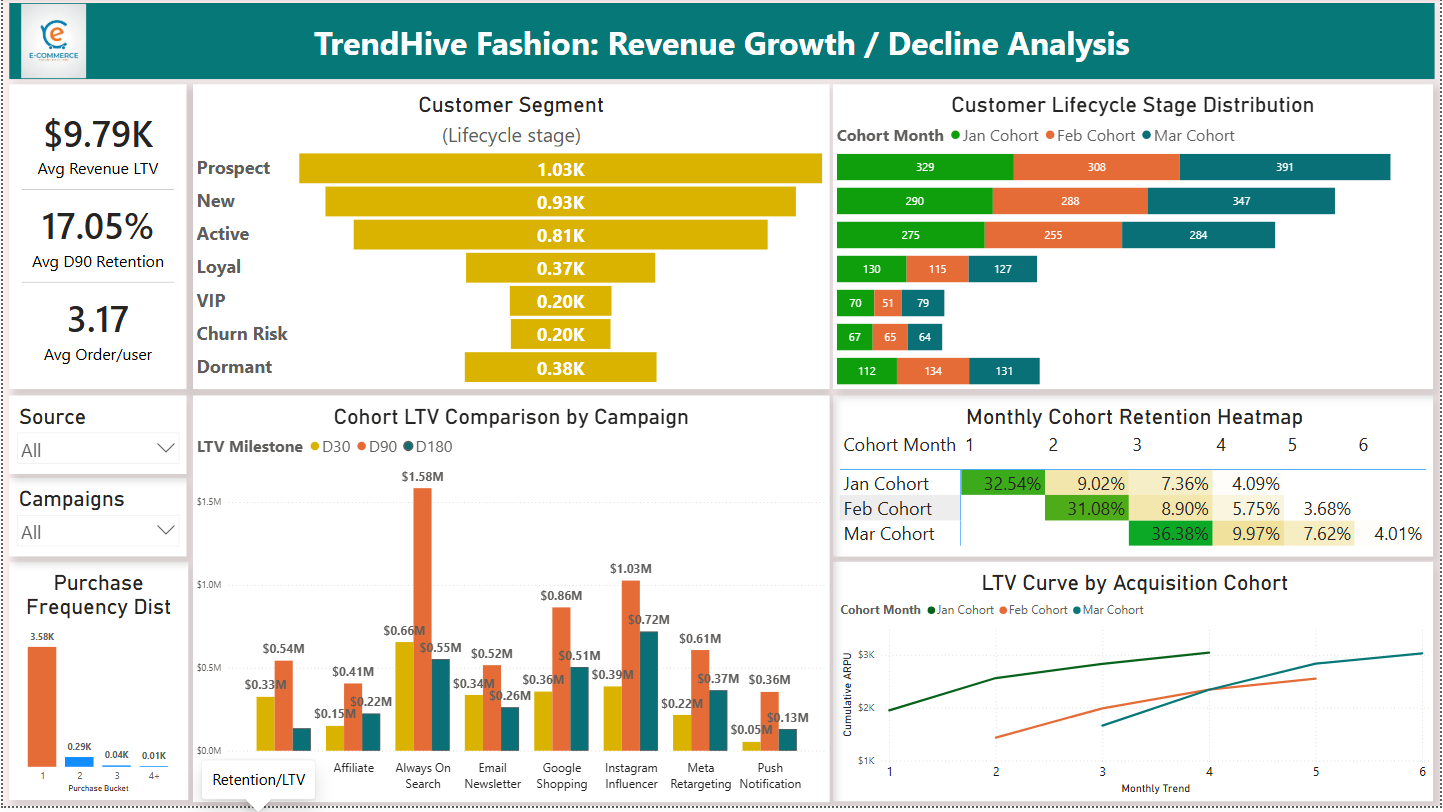

The dashboard page shown, as its layout file describes it:
{"tool":"powerbi","page":{"name":"Retention/LTV","canvas":[1920,1080],"ordinal":1},"visuals":[{"type":"textbox","box":[9,7.2,1903.8,101.3],"z":0},{"type":"image","box":[23.5,7.2,88.7,101.3],"z":1000},{"type":"cardVisual","fields":{"Data":["Sheet1.Avg Revenue LTV","Sheet1.Avg D90 Retention","Sheet1.Avg Order/user"]},"box":[9,115.8,237.1,407.2],"z":2000},{"type":"pivotTable","title":"Monthly Cohort Retention Heatmap","fields":{"Values":["Sheet1.Grid Retention %"],"Columns":["Sheet1.month"],"Rows":["Sheet1.Cohort Month"]},"box":[1109.3,530.2,801.7,215.3],"z":3000},{"type":"lineChart","title":"LTV Curve by Acquisition Cohort","fields":{"Category":["Sheet1.month"],"Y":["Sheet1.Cumulative ARPU"],"Series":["Sheet1.Cohort Month"]},"box":[1109.3,752.8,801.7,320.3],"z":4000},{"type":"funnel","title":"Customer Segment","fields":{"Category":["Sheet1.customer_segment"],"Y":["Count(Sheet1.customer_id)"]},"box":[253.4,115.8,850.5,407.2],"z":5000},{"type":"clusteredColumnChart","title":"Purchase Frequency Dist","fields":{"Category":["UserPurchaseSummary.Purchase Bucket"],"Y":["Count(UserPurchaseSummary.customer_id)"]},"box":[9,752.8,238.9,318.5],"z":6000},{"type":"slicer","fields":{"Values":["UserPurchaseSummary.campaign"]},"box":[9,640.6,237.1,105],"z":7000},{"type":"slicer","fields":{"Values":["UserPurchaseSummary.source"]},"box":[9,530.2,237.1,105],"z":8000},{"type":"clusteredColumnChart","title":"Cohort LTV Comparison by Campaign","fields":{"Category":["Sheet1.campaign"],"Y":["Sum(Sheet1.net_revenue)"],"Series":["Sheet1.LTV Milestone"]},"box":[253.4,530.2,850.5,542.9],"z":9000},{"type":"barChart","title":"Customer Lifecycle Stage Distribution","fields":{"Category":["Sheet1.customer_segment"],"Y":["Count(Sheet1.customer_id)"],"Series":["Sheet1.Cohort Month"]},"box":[1109.3,115.8,801.7,407.2],"z":10000}]}

Visuals, with their boxes in screenshot pixels (x1, y1, x2, y2), scaled from the page's 1920x1080 canvas onto the 1443x812 screenshot:
textbox: 7 5 1438 82
image: 18 5 84 82
cardVisual - Sheet1.Avg Revenue LTV x Sheet1.Avg D90 Retention: 7 87 185 393
"Monthly Cohort Retention Heatmap" pivotTable: 834 399 1436 561
"LTV Curve by Acquisition Cohort" lineChart: 834 566 1436 807
"Customer Segment" funnel: 190 87 830 393
"Purchase Frequency Dist" clusteredColumnChart: 7 566 186 805
slicer - UserPurchaseSummary.campaign: 7 482 185 561
slicer - UserPurchaseSummary.source: 7 399 185 478
"Cohort LTV Comparison by Campaign" clusteredColumnChart: 190 399 830 807
"Customer Lifecycle Stage Distribution" barChart: 834 87 1436 393
